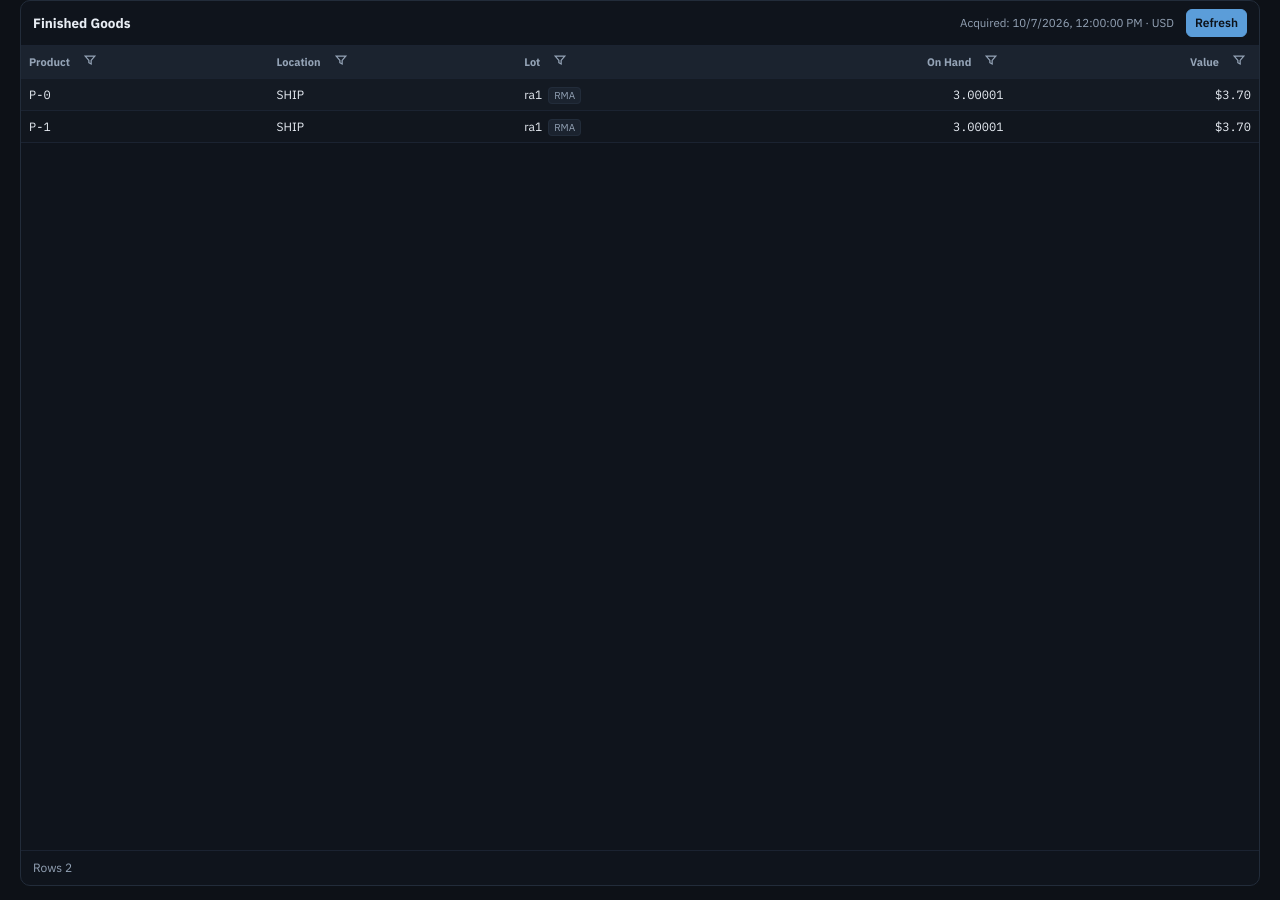
Test: Finished Goods panel (mocked only) › marks retained rows stale on transport failure without replacing their acquisition time
Expected: the table is shown, left=21, top=46, right=1259, bottom=143
What coordinates should you click on to do the following:
click the button with aria-label "Refresh Finished Goods"
I would click on:
 (1216, 23)
Its box is left=1186, top=9, right=1247, bottom=37.
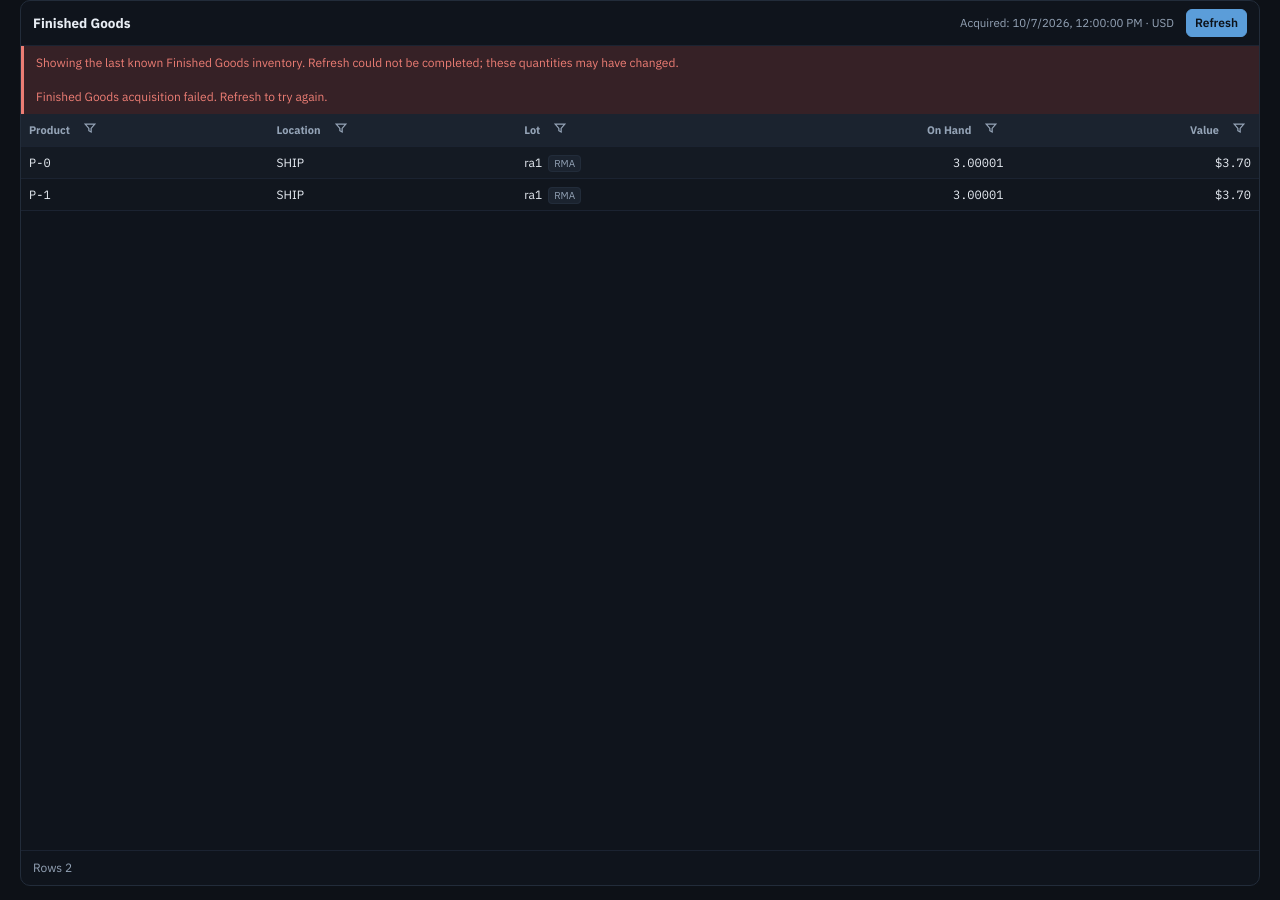
Expected: the table is shown, left=21, top=114, right=1259, bottom=211
Expected: the text "Showing the last known Finished Goods inventory" is shown, left=36, top=55, right=679, bottom=70
